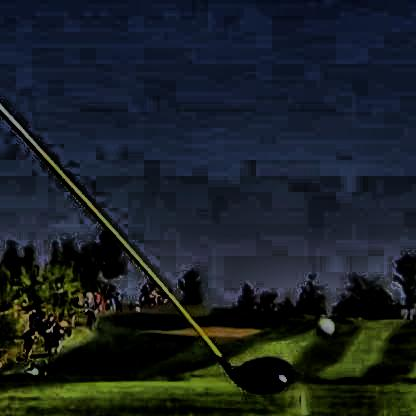golfball: (315, 314, 332, 335)
